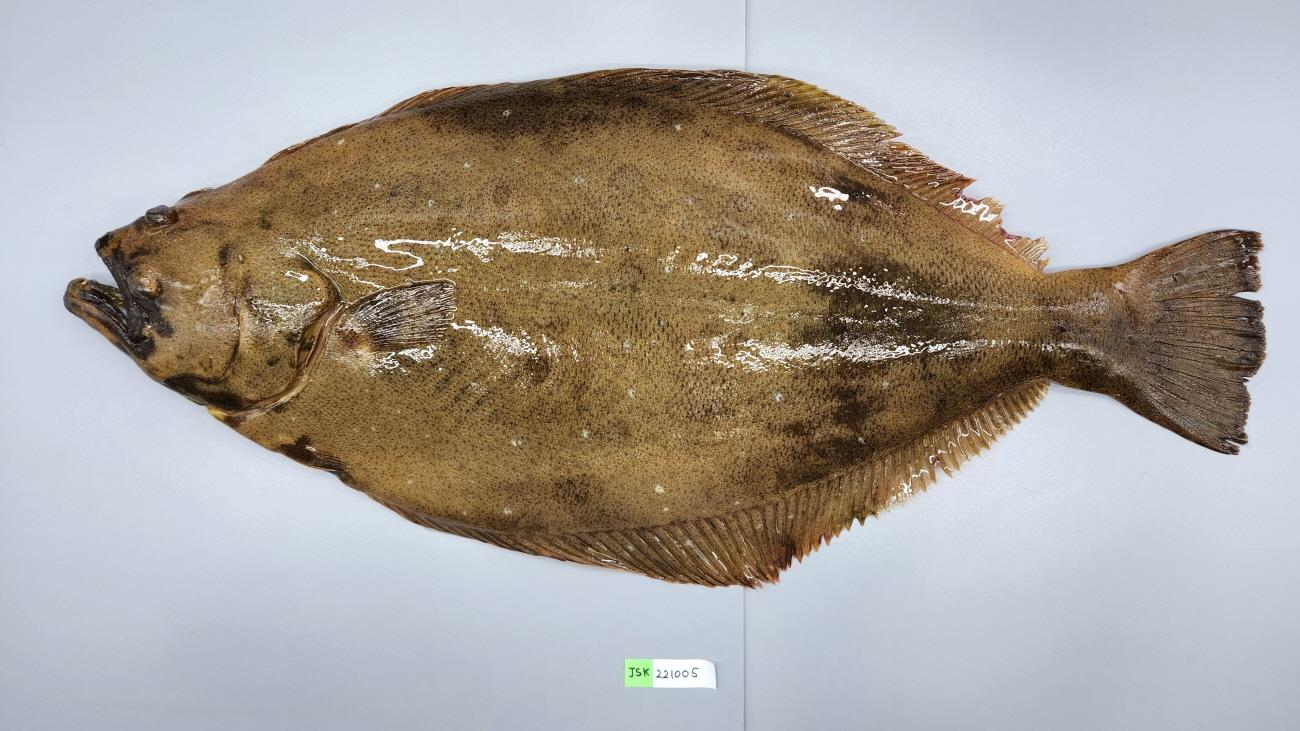POOUN: (63, 68, 1270, 591)
